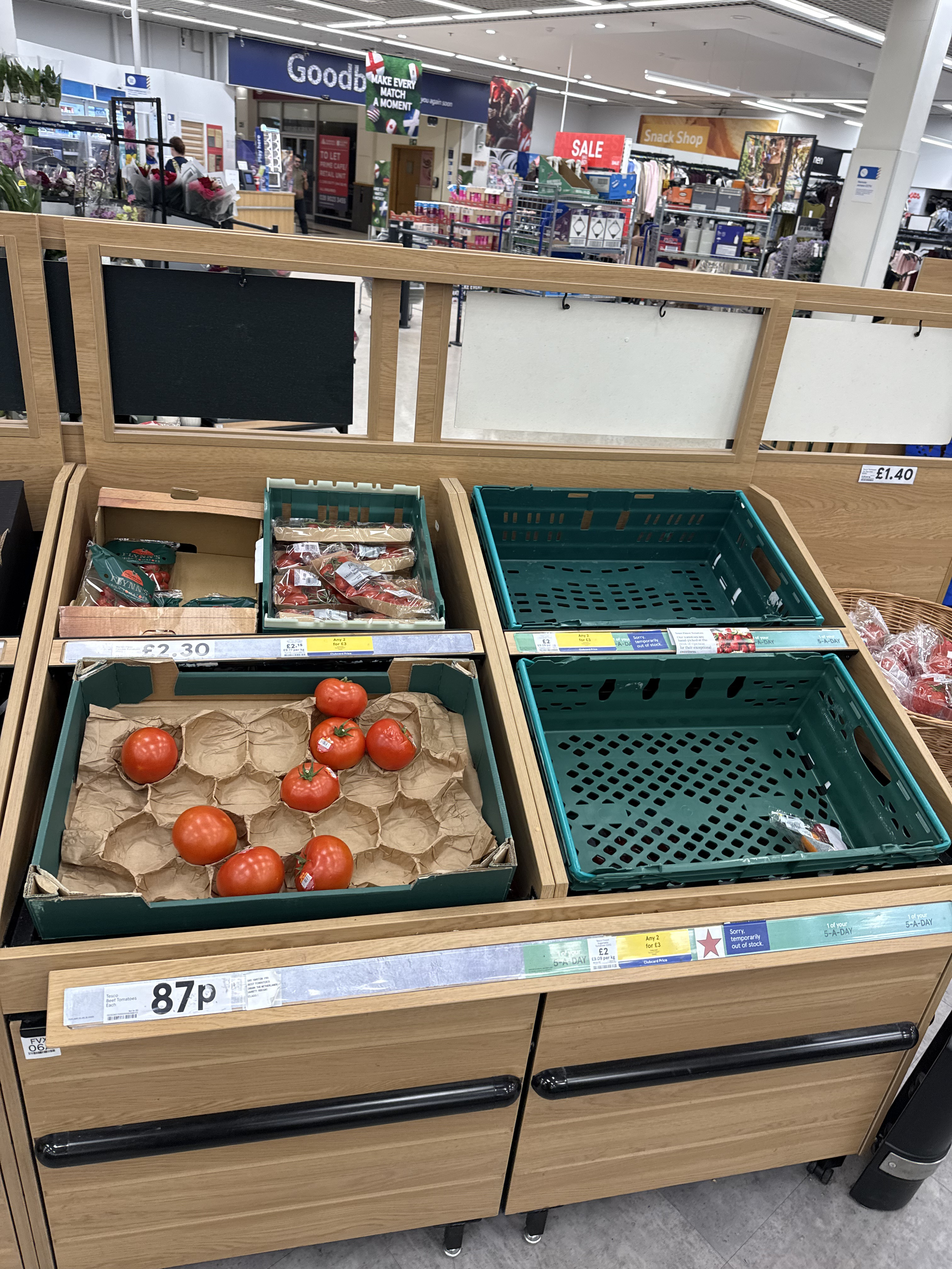large: (103, 976, 232, 1023)
medium: (112, 640, 215, 659), (858, 464, 918, 484)
small: (587, 928, 693, 971), (280, 635, 374, 658), (533, 632, 617, 653)
